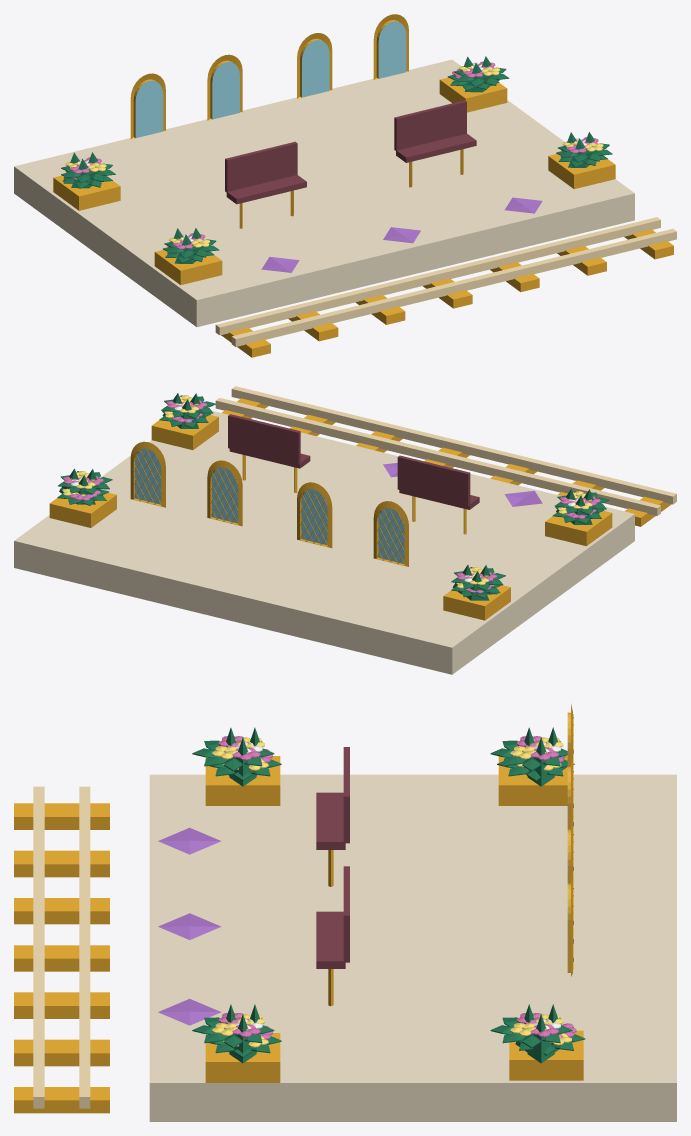
Rendered from decoration.glb.
3 renders of one model, top to bottom at view 1: azimuth 30°, elevation 25°; view 2: azimuth 150°, elevation 25°; view 3: azimuth 270°, elevation 25°, orthographic. The views are drawn at different scales.
Parts seen in each view (by area): view 1: 21_CanterlotStation_PlatformBenchesAndRail, 21_R2C_Station_FlowerBedsAndBroadSleepers, 21_ComparisonReview_DetailCorrections, 21_CanterlotStation_FlowerPlanters; view 2: 21_CanterlotStation_PlatformBenchesAndRail, 21_R2C_Station_FlowerBedsAndBroadSleepers, 21_ComparisonReview_DetailCorrections, 21_CanterlotStation_FlowerPlanters; view 3: 21_CanterlotStation_PlatformBenchesAndRail, 21_R2C_Station_FlowerBedsAndBroadSleepers, 21_CanterlotStation_FlowerPlanters, 21_ComparisonReview_DetailCorrections.
Part boxes in pixels (left/top/right/bottom): 21_CanterlotStation_PlatformBenchesAndRail: left=14, top=59, right=634, bottom=326; 21_R2C_Station_FlowerBedsAndBroadSleepers: left=61, top=56, right=676, bottom=357; 21_ComparisonReview_DetailCorrections: left=130, top=14, right=408, bottom=139; 21_CanterlotStation_FlowerPlanters: left=61, top=69, right=607, bottom=262; 21_CanterlotStation_PlatformBenchesAndRail: left=14, top=411, right=634, bottom=674; 21_R2C_Station_FlowerBedsAndBroadSleepers: left=58, top=386, right=676, bottom=600; 21_ComparisonReview_DetailCorrections: left=130, top=441, right=408, bottom=566; 21_CanterlotStation_FlowerPlanters: left=57, top=411, right=604, bottom=598; 21_CanterlotStation_PlatformBenchesAndRail: left=149, top=747, right=676, bottom=1121; 21_R2C_Station_FlowerBedsAndBroadSleepers: left=14, top=727, right=572, bottom=1113; 21_CanterlotStation_FlowerPlanters: left=204, top=749, right=585, bottom=1057; 21_ComparisonReview_DetailCorrections: left=567, top=704, right=573, bottom=976.
Size of the model in its own units: 1.29 by 0.34 by 1.15.
